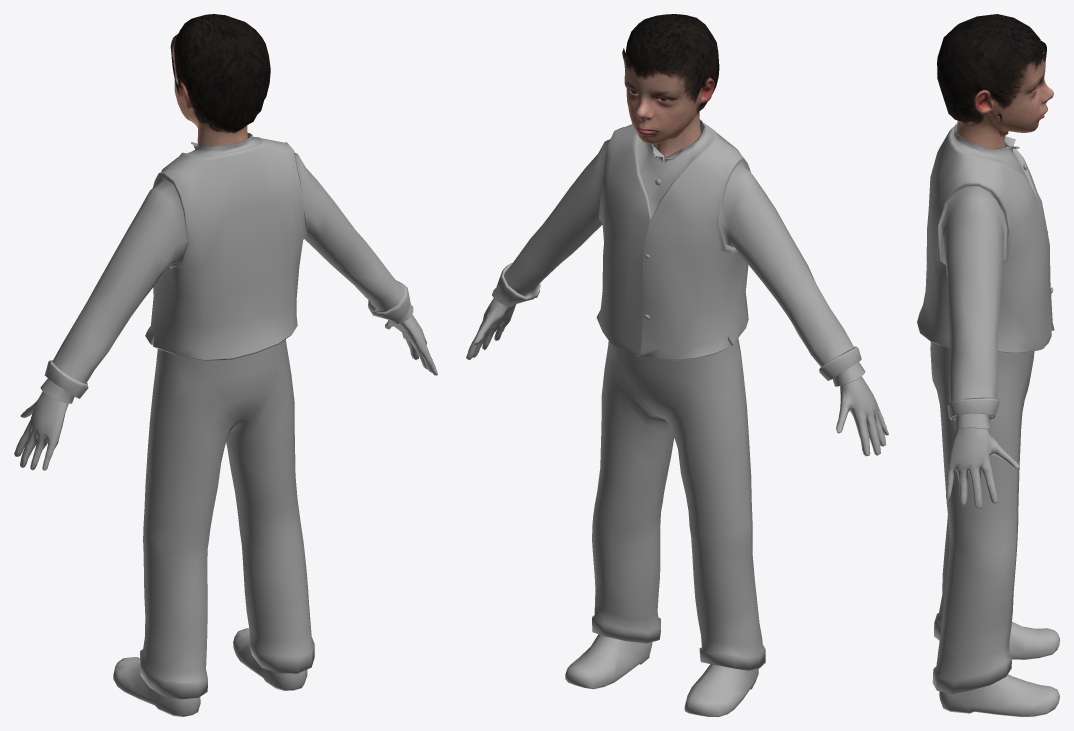
Rendered from Sam.fbx.
The picture shows the model from 3 angles, left to right: view 1: azimuth 30°, elevation 25°; view 2: azimuth 150°, elevation 25°; view 3: azimuth 270°, elevation 25°; orthographic projection.
Parts seen in each view (by area): view 1: freddi_hightmore__001_freddi_hightmore__001_Tex_0599_0_dds_T, freddi_hightmore__freddi_hightmore__Tex_0603_0_dds_Tex_06_Te, freddi_hightmore_fred_freddi_hightmore_fred_Tex_0601_0_dds_T; view 2: freddi_hightmore__001_freddi_hightmore__001_Tex_0599_0_dds_T, freddi_hightmore__freddi_hightmore__Tex_0603_0_dds_Tex_06_Te, freddi_hightmore_fred_freddi_hightmore_fred_Tex_0601_0_dds_T (×2); view 3: freddi_hightmore__freddi_hightmore__Tex_0603_0_dds_Tex_06_Te, freddi_hightmore__001_freddi_hightmore__001_Tex_0599_0_dds_T, freddi_hightmore_fred_freddi_hightmore_fred_Tex_0601_0_dds_T (×2).
Boxes of the visible parts, x1,y1,x2,y2 form: freddi_hightmore__001_freddi_hightmore__001_Tex_0599_0_dds_T: [14, 314, 437, 716]; freddi_hightmore__freddi_hightmore__Tex_0603_0_dds_Tex_06_Te: [40, 133, 413, 403]; freddi_hightmore_fred_freddi_hightmore_fred_Tex_0601_0_dds_T: [174, 14, 270, 145]; freddi_hightmore__001_freddi_hightmore__001_Tex_0599_0_dds_T: [466, 298, 888, 716]; freddi_hightmore__freddi_hightmore__Tex_0603_0_dds_Tex_06_Te: [492, 119, 865, 386]; freddi_hightmore_fred_freddi_hightmore_fred_Tex_0601_0_dds_T (×2): [622, 14, 719, 160]; freddi_hightmore__freddi_hightmore__Tex_0603_0_dds_Tex_06_Te: [917, 124, 1054, 429]; freddi_hightmore__001_freddi_hightmore__001_Tex_0599_0_dds_T: [930, 342, 1059, 716]; freddi_hightmore_fred_freddi_hightmore_fred_Tex_0601_0_dds_T (×2): [937, 14, 1053, 149].
Bounding box in the file's own units: 0.8734 × 1.36 × 0.2664.
2 materials, 1 textured.
